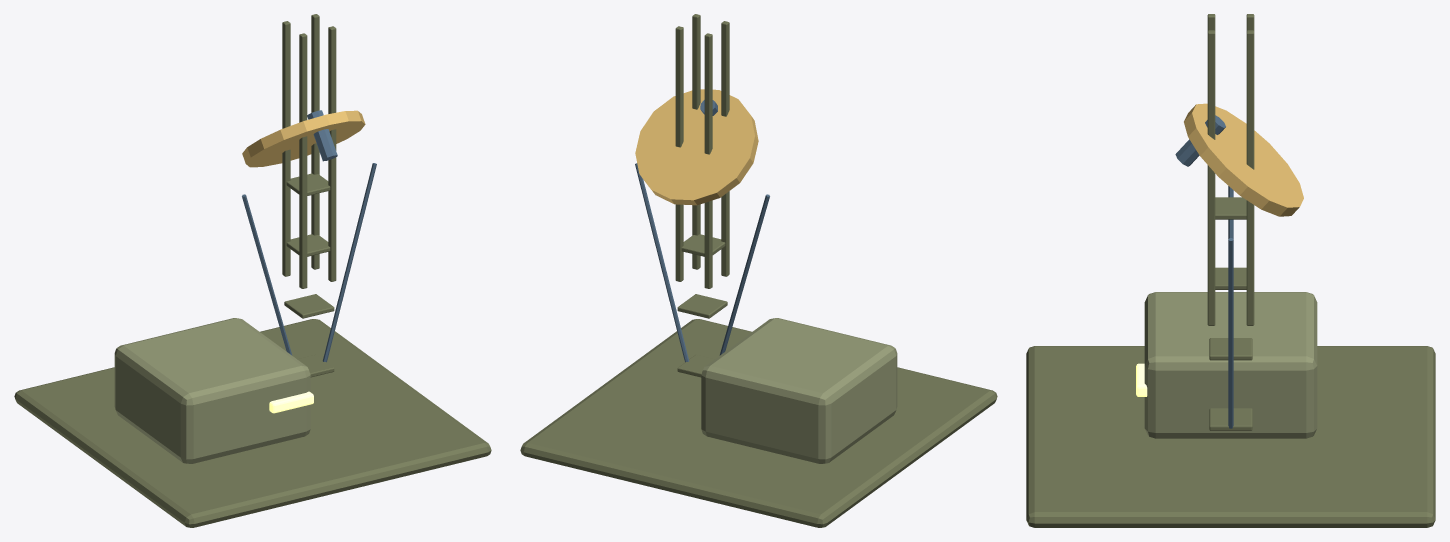
The model's file is com_radar_uplink.glb.
3 renders of one model, left to right at view 1: azimuth 30°, elevation 25°; view 2: azimuth 150°, elevation 25°; view 3: azimuth 270°, elevation 25°, orthographic. The views are drawn at different scales.
Parts seen in each view (by area): view 1: com_radar_uplink; view 2: com_radar_uplink; view 3: com_radar_uplink.
Part boxes in pixels (x1,y1,x2,y2): com_radar_uplink: [14, 14, 491, 527]; com_radar_uplink: [520, 14, 997, 527]; com_radar_uplink: [1026, 14, 1435, 527].
Size of the model in its own units: 1.9 by 2.32 by 1.9.
